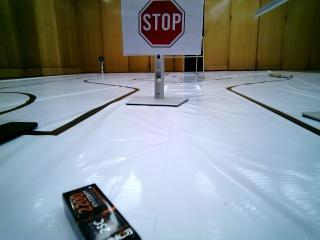stop: (122, 1, 198, 57)
